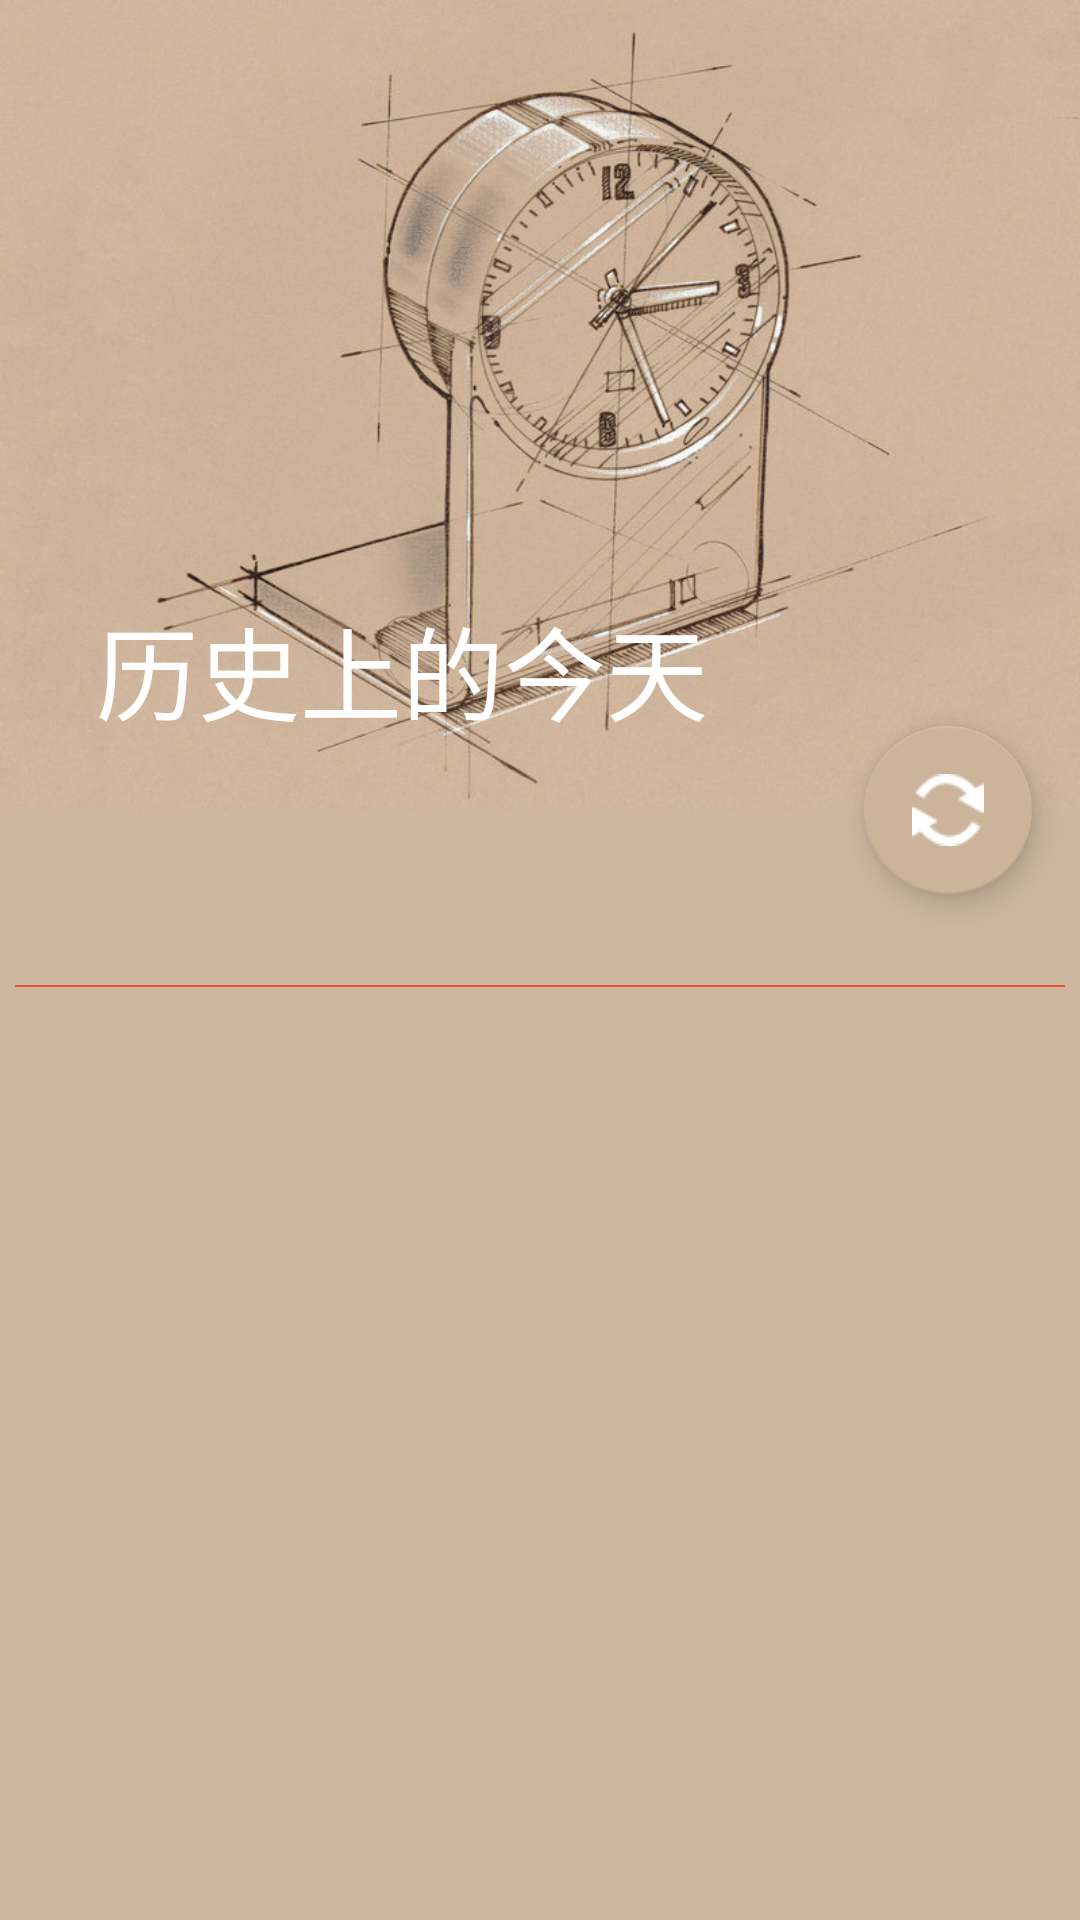

Icons on this 1080*1920 Android screen, each with the point to tap as (x,y):
refresh: (971,834)
